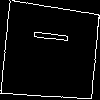I: (25, 27, 69, 45)
